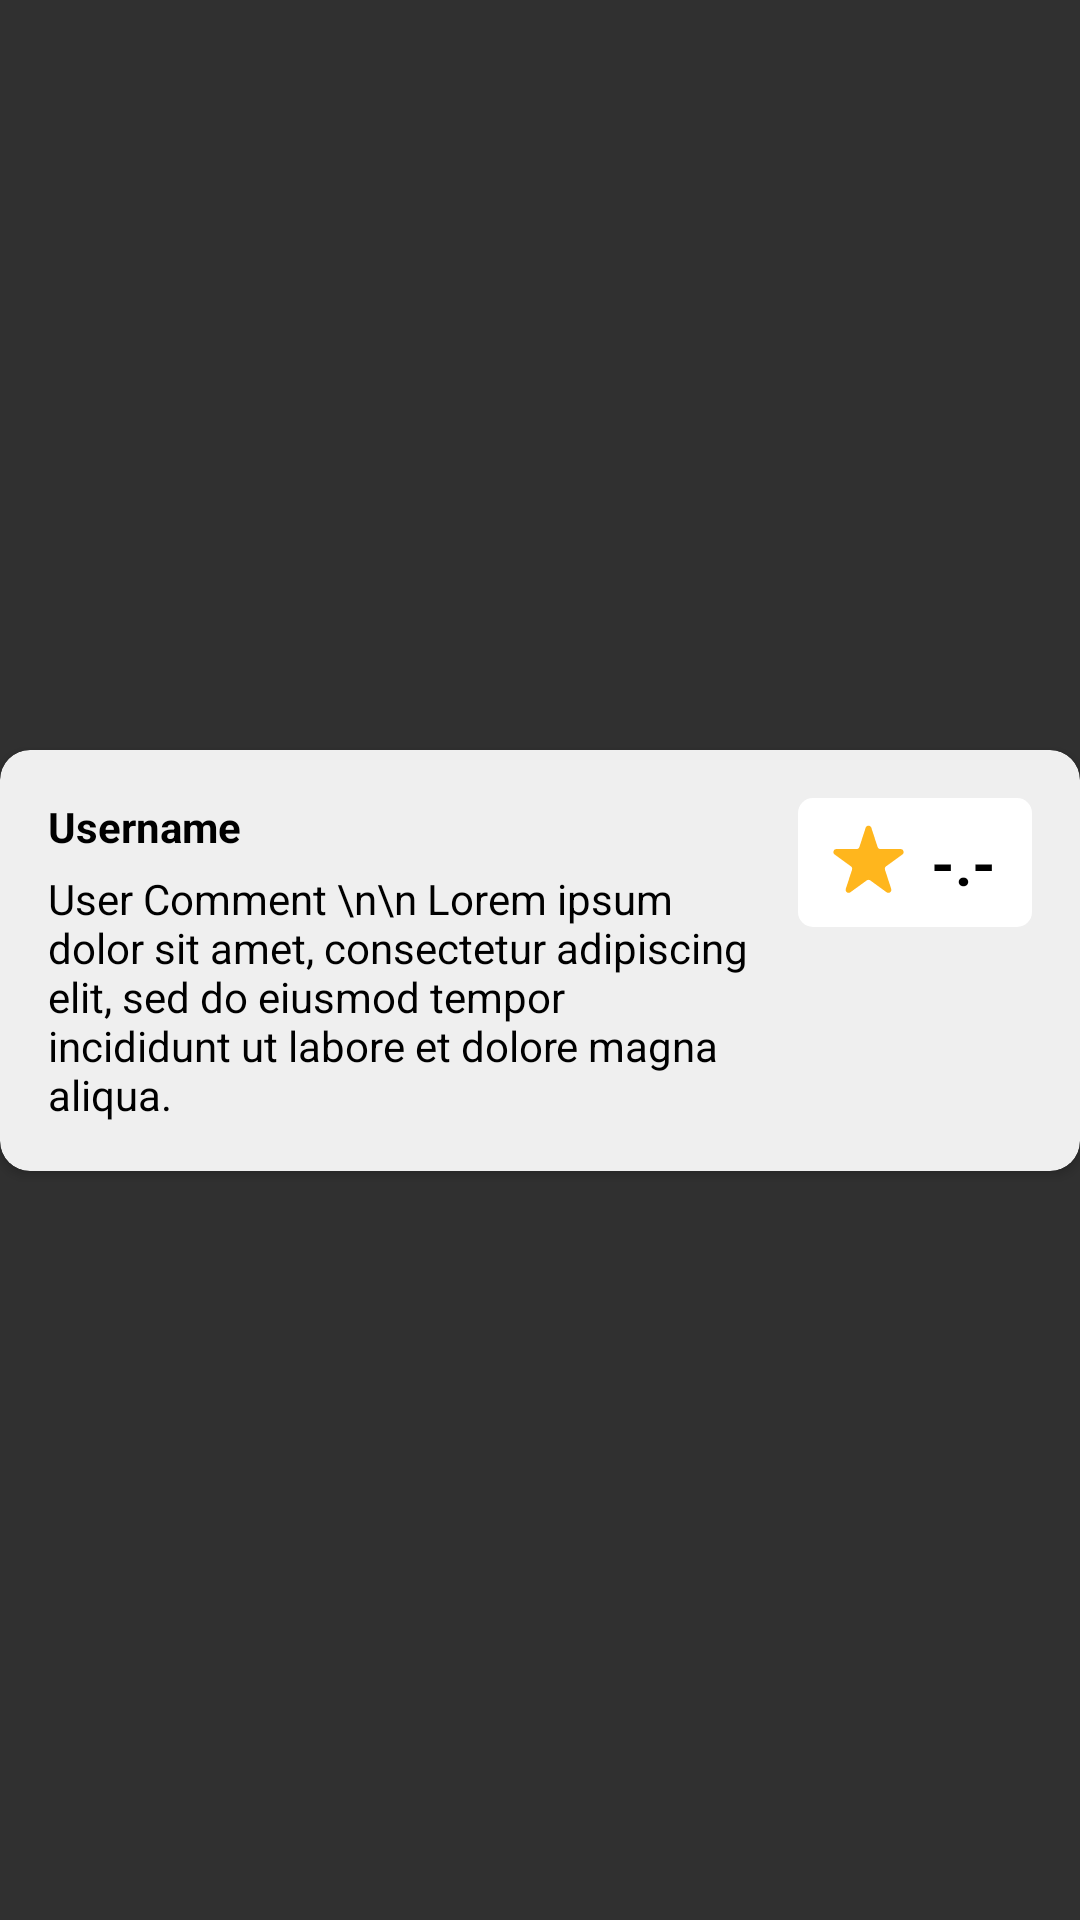

Where to tap for icons on this 1080 x 1920 app screen, as (x=x, y=y):
rating box: (x=915, y=862)
